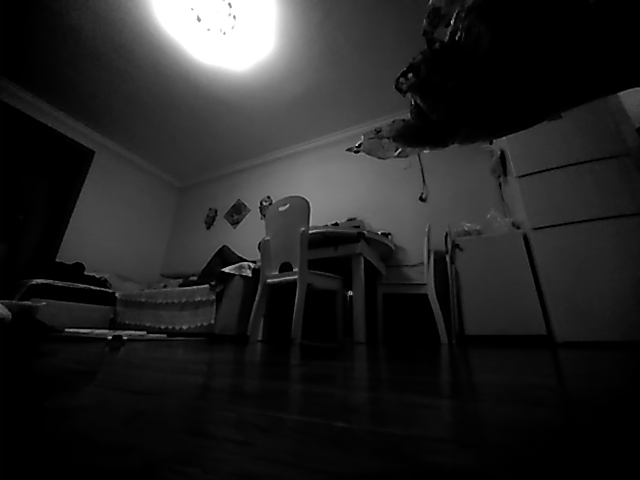carpet: (57, 325, 173, 342)
